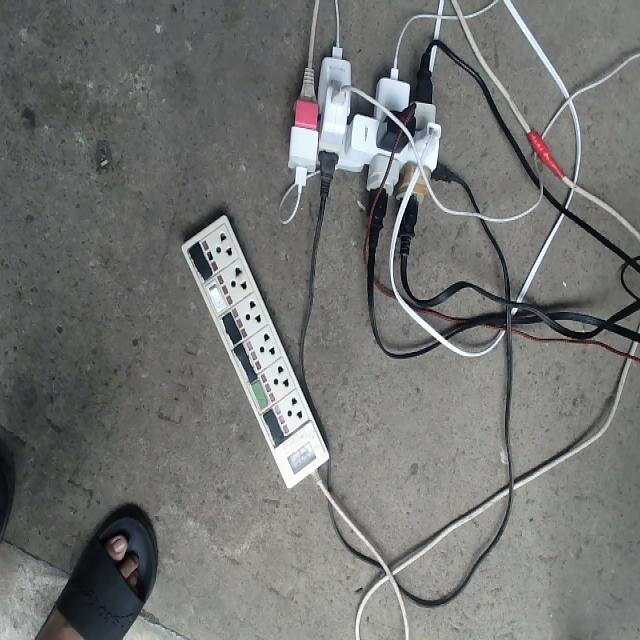-: (286, 41, 447, 223)
